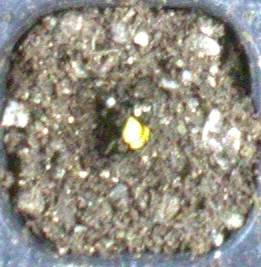pepper seed: (54, 48, 204, 198), (49, 45, 192, 187)
